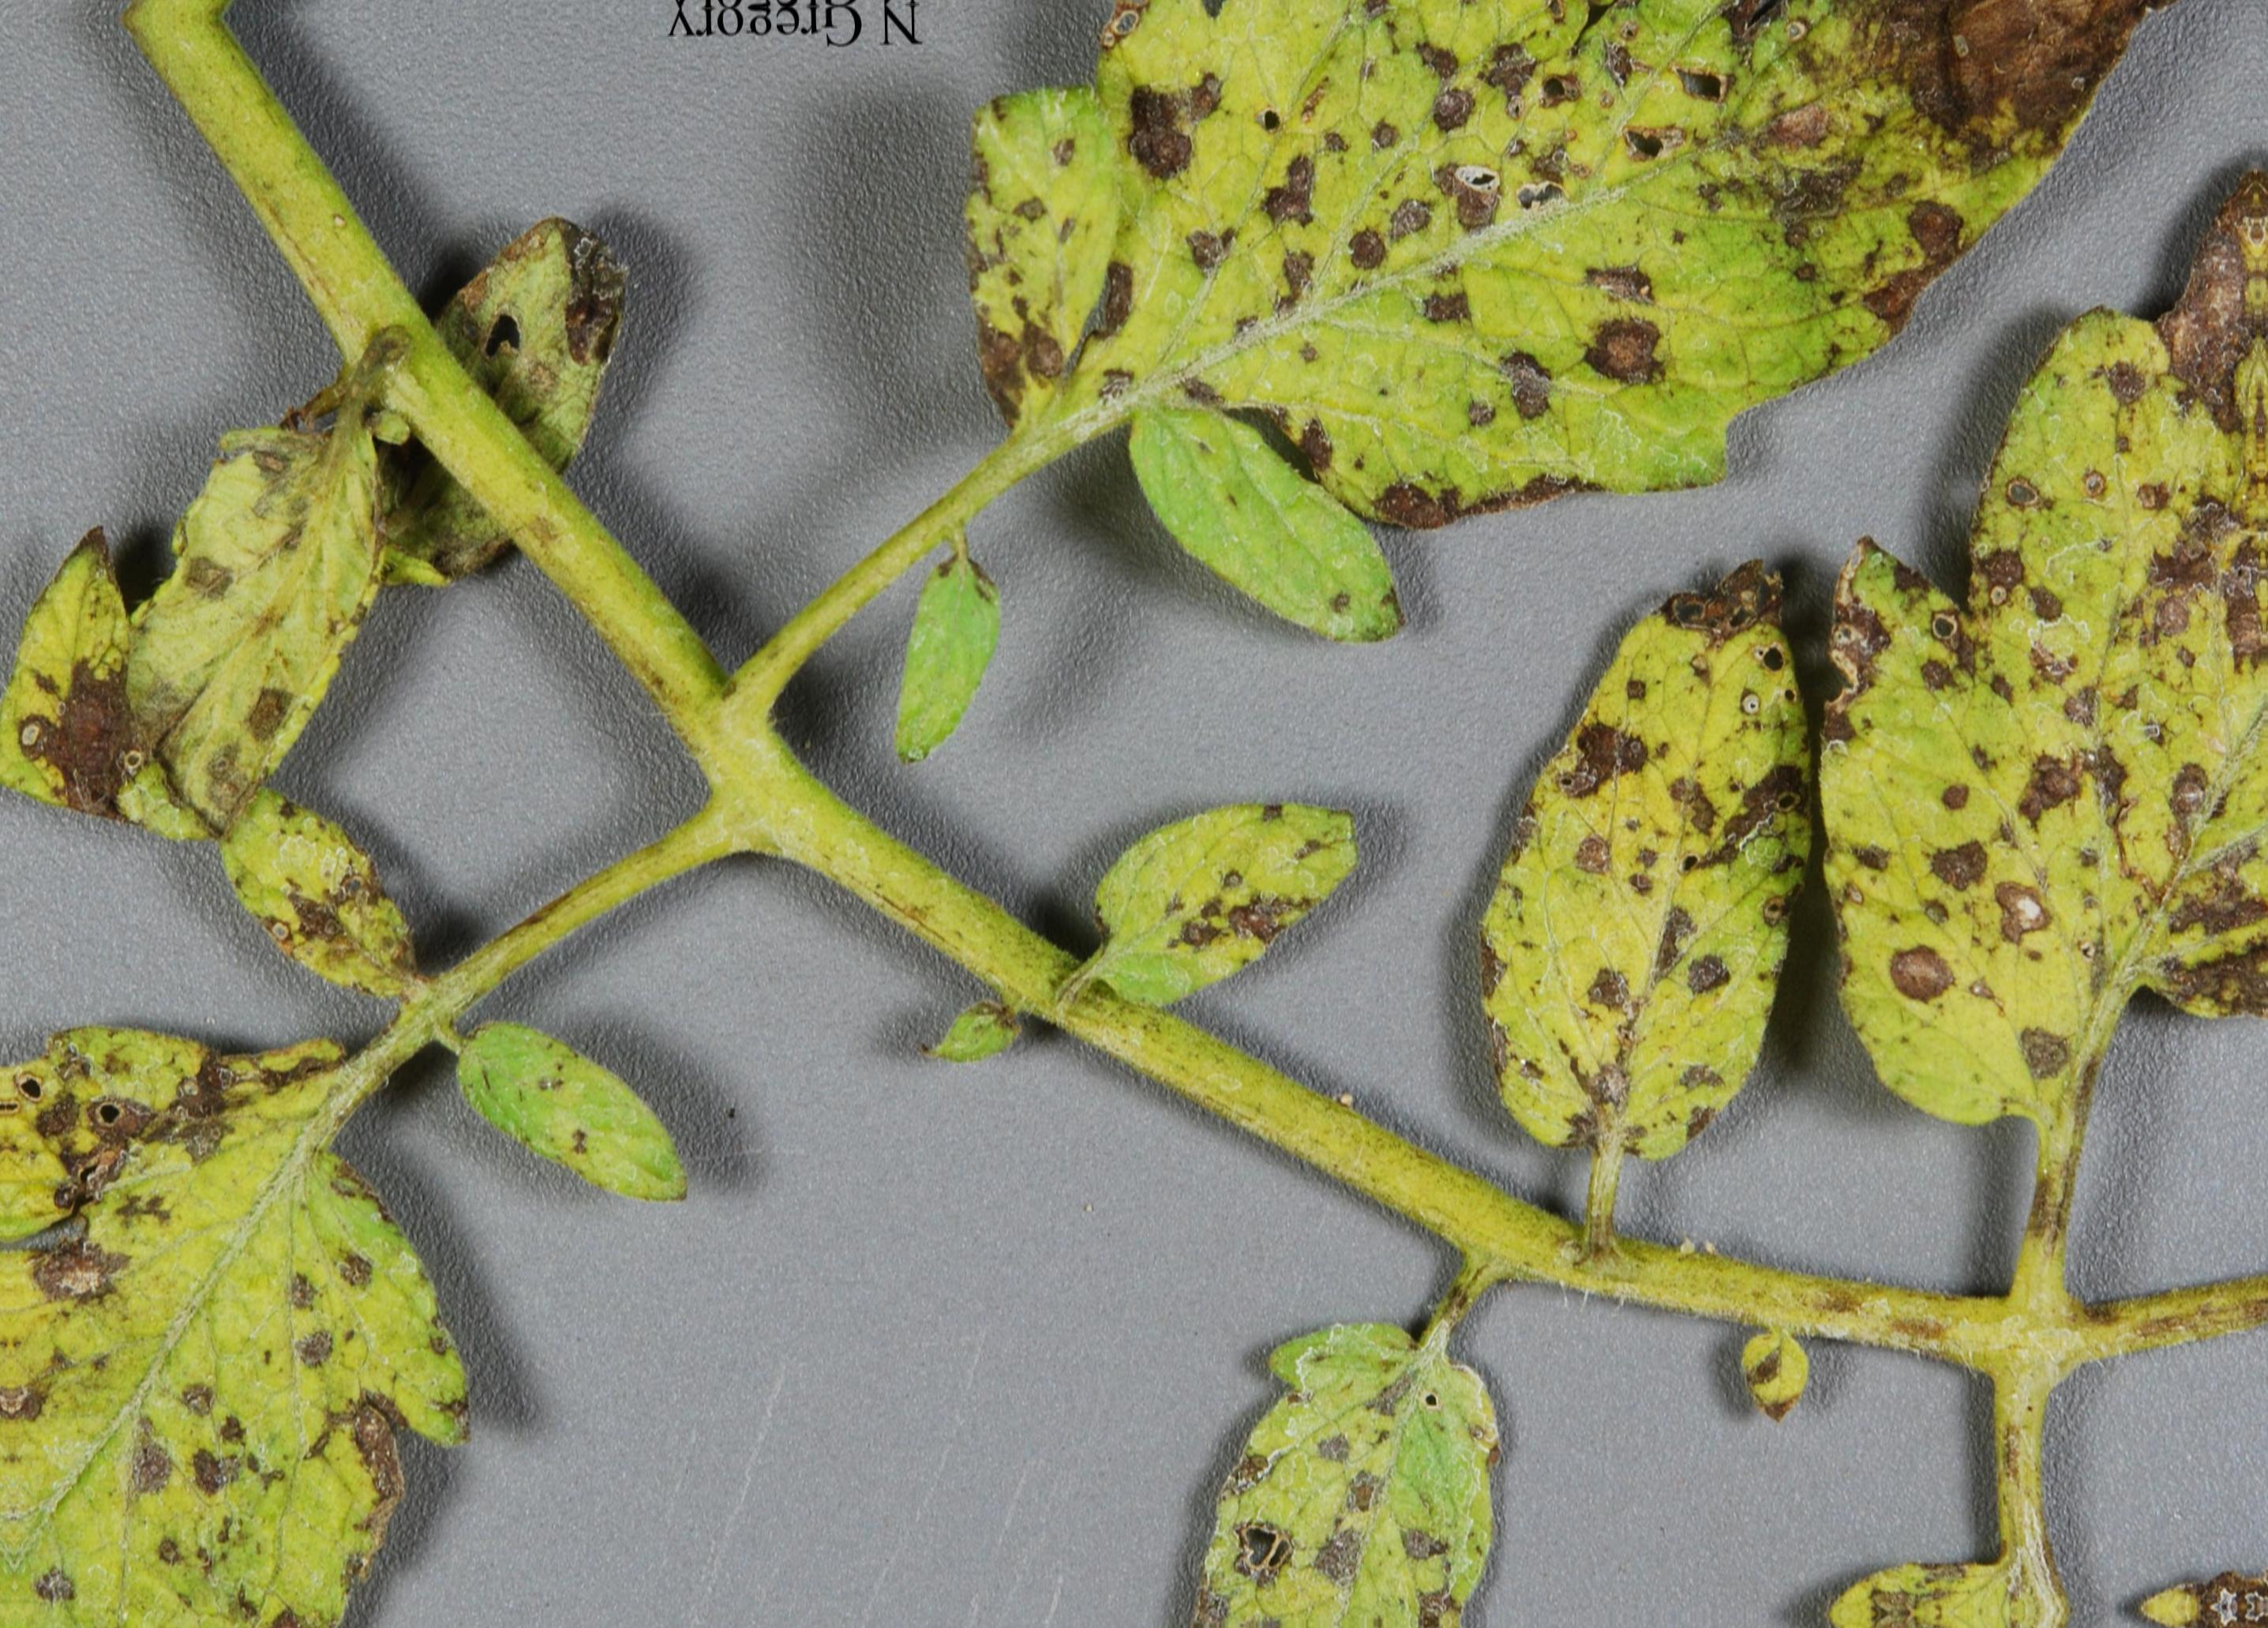Tomato Septoria leaf spot: (937, 0, 2263, 587), (1800, 0, 2268, 1216), (2, 930, 571, 1628), (1474, 516, 1872, 1163), (0, 340, 396, 892), (1090, 1302, 1585, 1628), (1062, 719, 1407, 1020)
